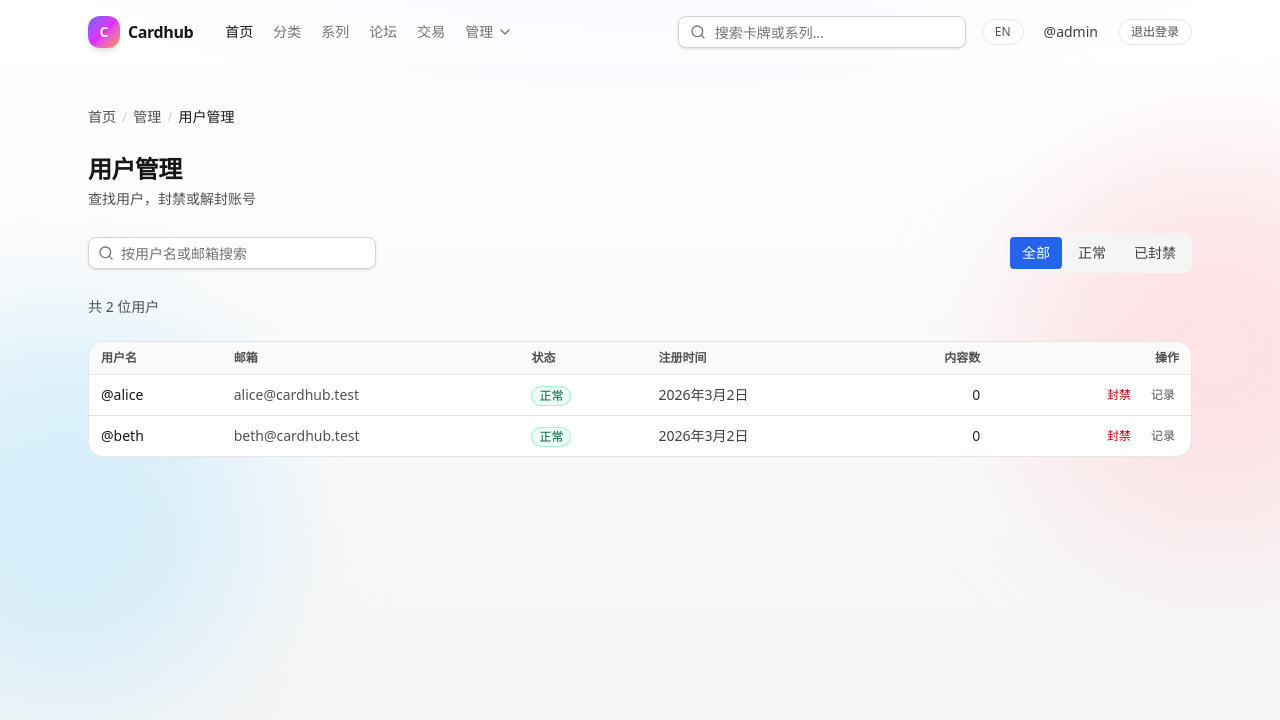
Test: BanUserDialog › keeps CANNOT_BAN_ADMIN inside the dialog and treats ALREADY_BANNED as success
Click the button with aria-label "封禁 @alice": (1119, 395) [1103, 383, 1135, 407]
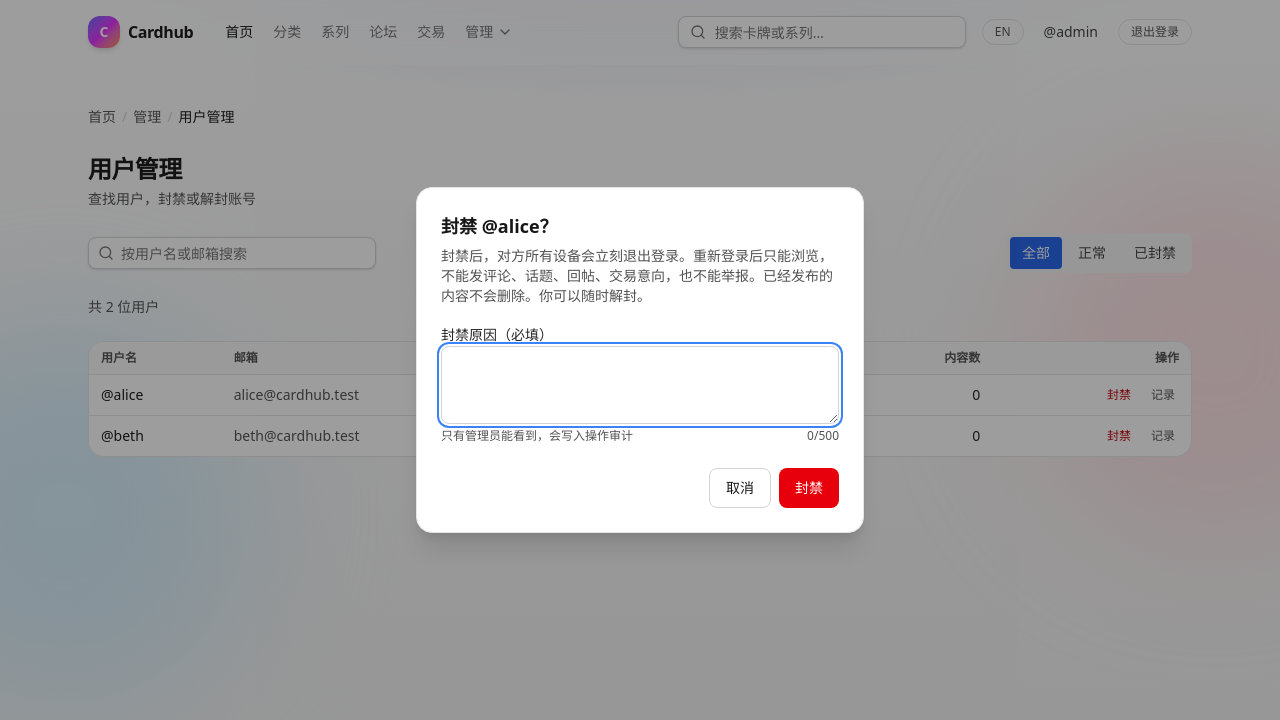
In the text box labelled "封禁原因（必填）": (640, 385) [441, 346, 839, 424], type "原因"
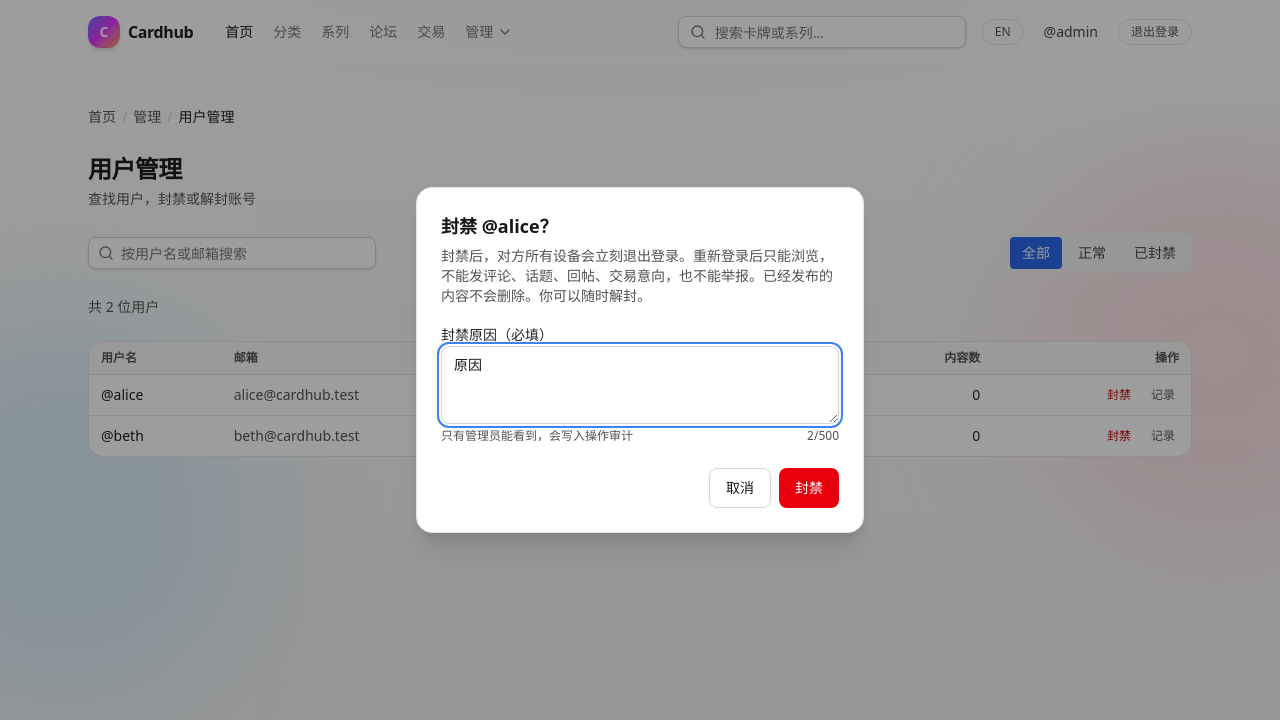
Click the button "封禁": (809, 488) [779, 468, 839, 508]
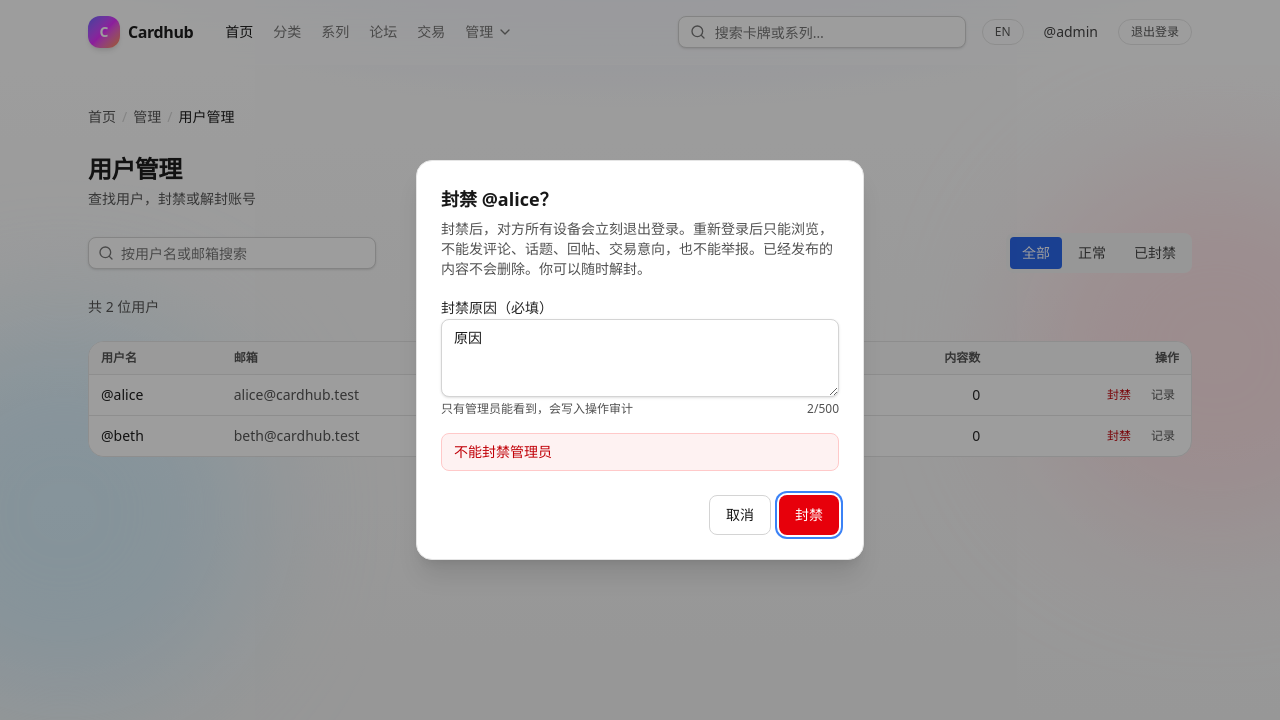
Check: the message reads "不能封禁管理员", box [454, 442, 552, 461]
Click the button "封禁": (809, 515) [779, 495, 839, 535]
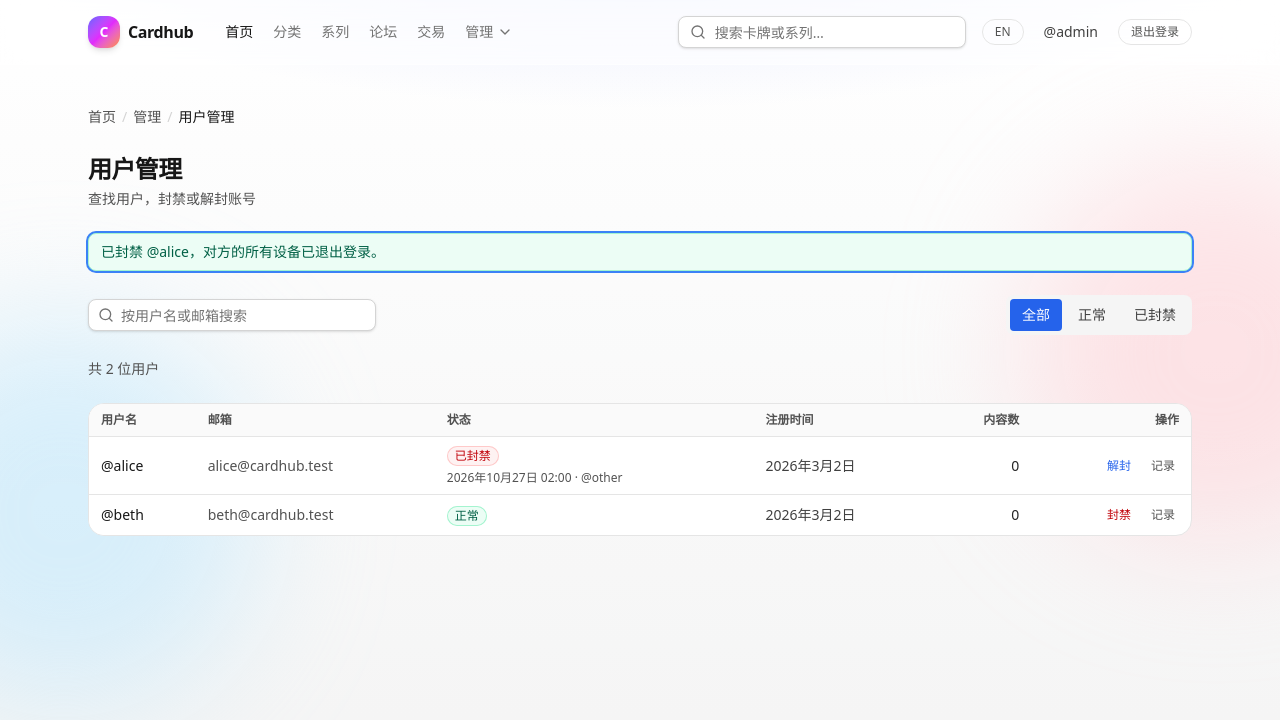
Check: the text "@beth" is shown, box [101, 505, 144, 525]
Check: the dialog is gone
Check: the button with aria-label "解封 @alice" is shown, box [1103, 454, 1135, 478]
